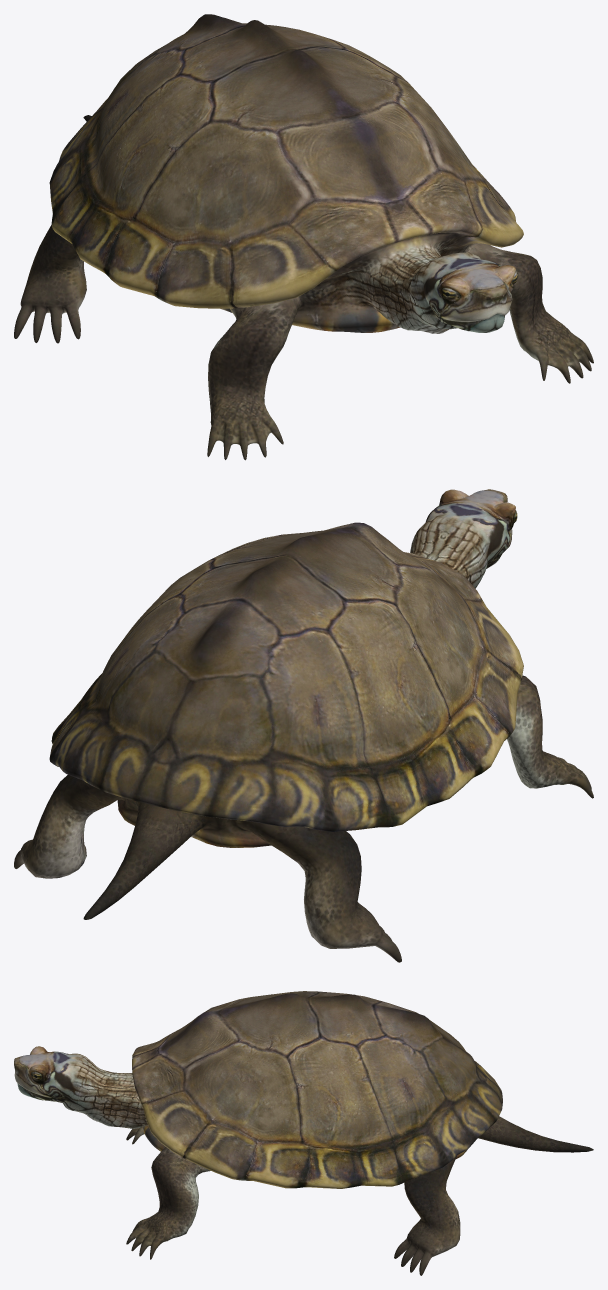
File: TORTUGA.glb
The picture shows the model from 3 angles, top to bottom: view 1: azimuth 30°, elevation 25°; view 2: azimuth 150°, elevation 25°; view 3: azimuth 270°, elevation 25°; orthographic projection. The views are drawn at different scales.
Visible parts, largest first — view 1: 13103_pearlturtle_v1_l2; view 2: 13103_pearlturtle_v1_l2; view 3: 13103_pearlturtle_v1_l2.
Part boxes in pixels (box(x1,y1,x2,y2)): 13103_pearlturtle_v1_l2: box(14, 14, 593, 460); 13103_pearlturtle_v1_l2: box(14, 489, 593, 962); 13103_pearlturtle_v1_l2: box(14, 991, 593, 1275).
Size of the model in its own units: 10.21 by 7.82 by 18.86.
Materials: 1 (1 with a texture image).
